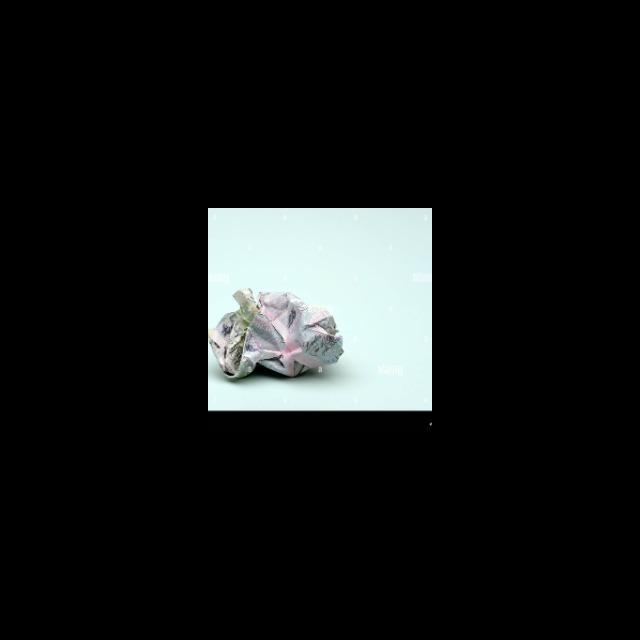paper: (208, 283, 355, 388)
